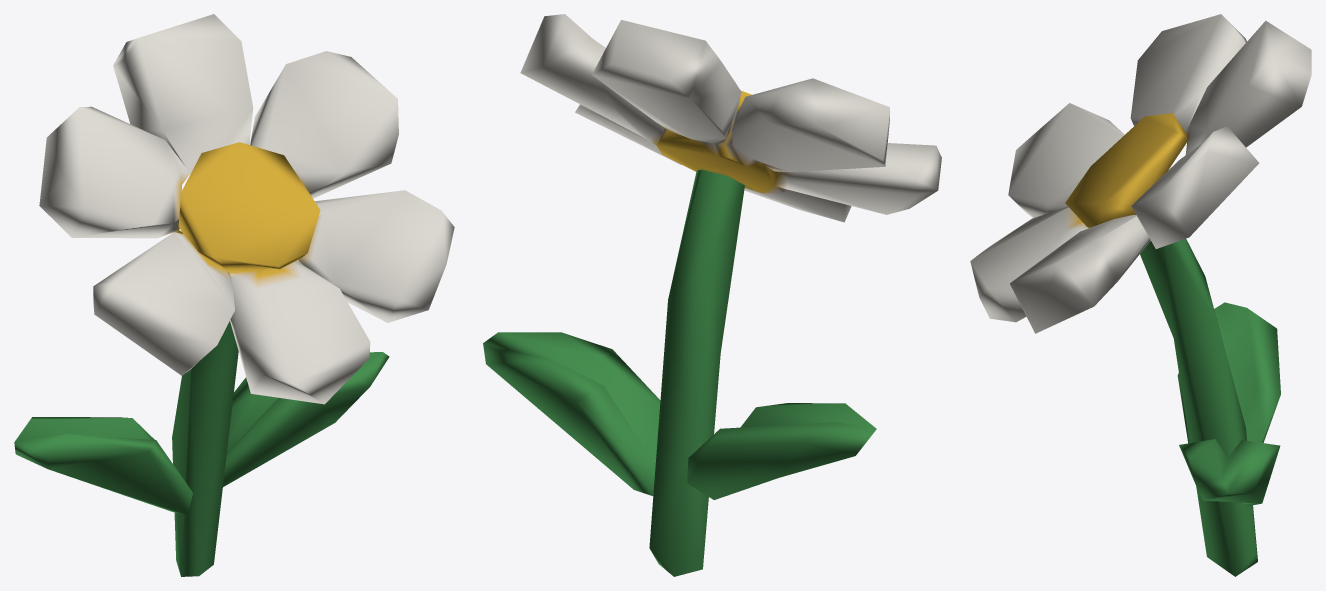
The model's file is flower_daisy.glb.
The picture shows the model from 3 angles, left to right: view 1: azimuth 30°, elevation 25°; view 2: azimuth 150°, elevation 25°; view 3: azimuth 270°, elevation 25°; orthographic projection. The views are drawn at different scales.
Visible parts, largest first — view 1: flower_daisy; view 2: flower_daisy; view 3: flower_daisy.
Part boxes in pixels (box(x1,y1,x2,y2)): flower_daisy: box(14, 14, 454, 576); flower_daisy: box(483, 14, 941, 576); flower_daisy: box(970, 14, 1311, 576).
Bounding box in the file's own units: 0.7319 × 0.9879 × 0.5769.
